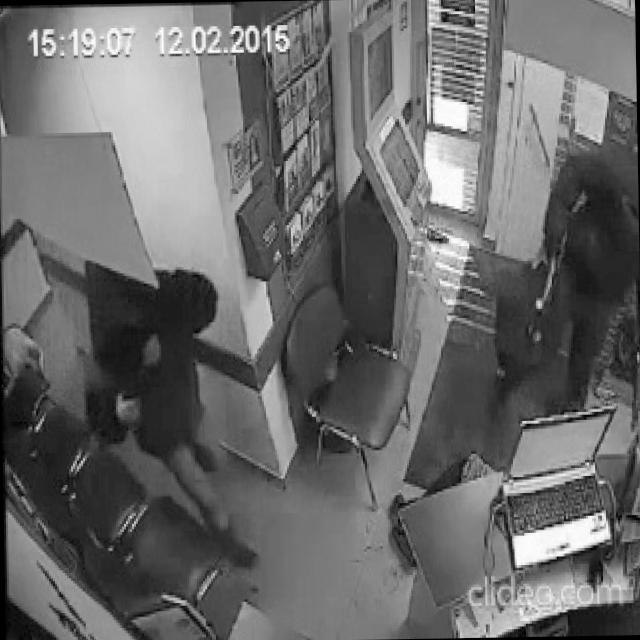gun: (119, 365, 148, 412)
person: (484, 136, 640, 418)
person with a gun: (78, 246, 262, 574)
